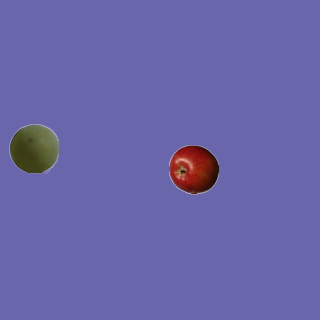Apple Braeburn: (168, 144, 218, 194)
Grape White 4: (8, 123, 58, 173)
